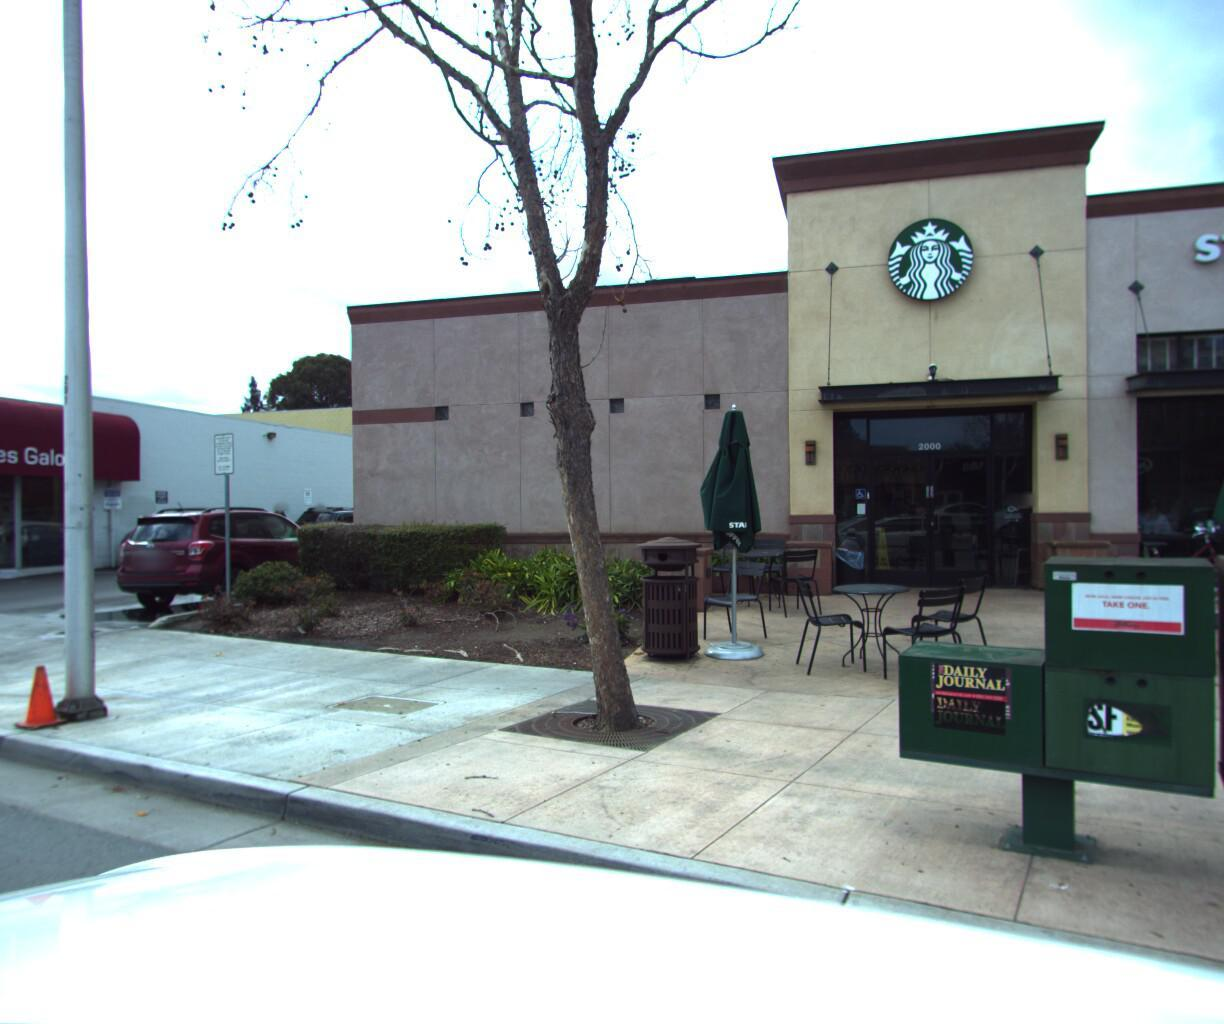bicycle: (1081, 518, 1224, 624), (1159, 522, 1224, 647)
car: (105, 504, 358, 614)
